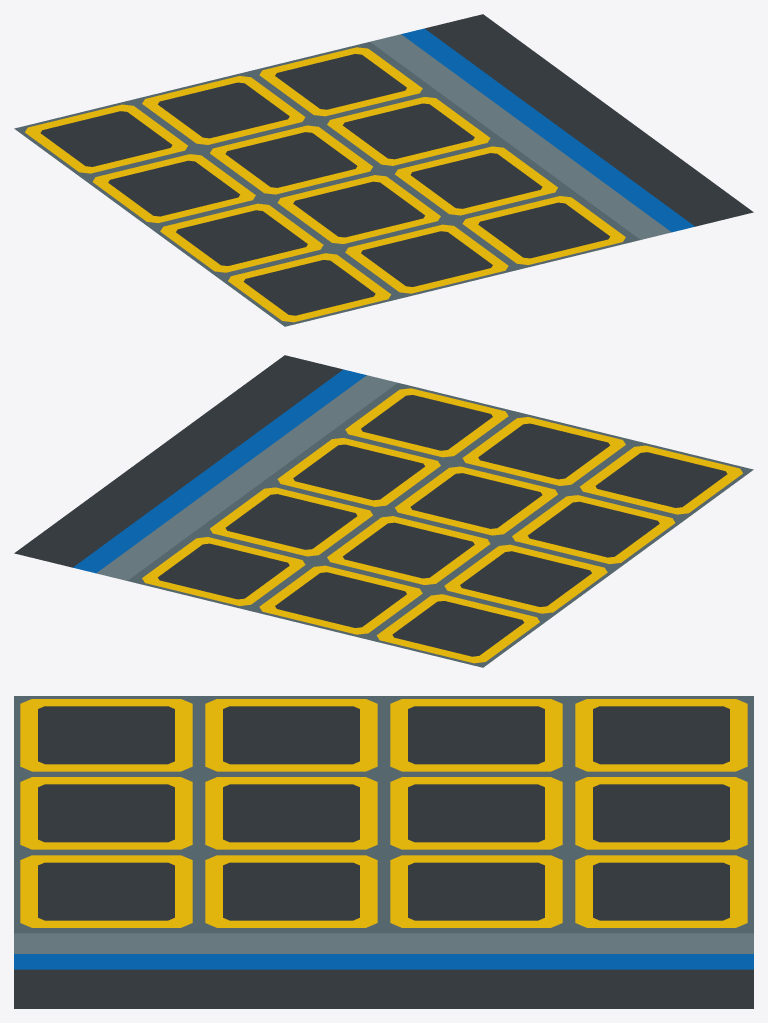
Rendered from Floor_type_C_007.fbx.
3 views of the same model, one above another, from view 1: azimuth 30°, elevation 25°; view 2: azimuth 150°, elevation 25°; view 3: azimuth 270°, elevation 25° (orthographic). The views are drawn at different scales.
Visible parts, largest first — view 1: Floor_type_C_007; view 2: Floor_type_C_007; view 3: Floor_type_C_007.
Part boxes in pixels (x1,y1,x2,y2): Floor_type_C_007: [14, 14, 753, 326]; Floor_type_C_007: [14, 355, 753, 667]; Floor_type_C_007: [14, 696, 753, 1008].
Size of the model in its own units: 400 by 400 by 1.34e-21.
